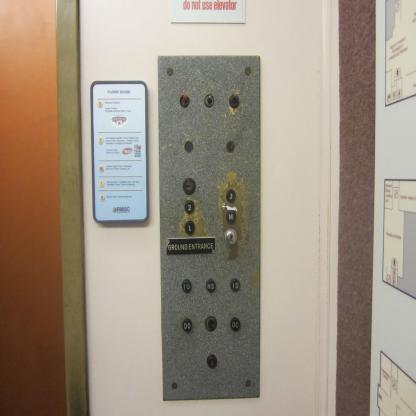1: (183, 219, 196, 235)
2: (183, 199, 196, 215)
3: (224, 188, 237, 204)
A: (206, 353, 218, 370)
DC: (229, 316, 241, 332)
DO: (180, 316, 192, 334)
ID: (229, 276, 240, 294)
IU: (180, 278, 192, 294)
M: (225, 208, 237, 224)
NS: (204, 277, 216, 294)
keyhole: (223, 228, 238, 246), (182, 177, 196, 196)
switch: (178, 93, 191, 110), (228, 92, 241, 109), (203, 92, 215, 109)
unknown: (203, 314, 218, 334)
